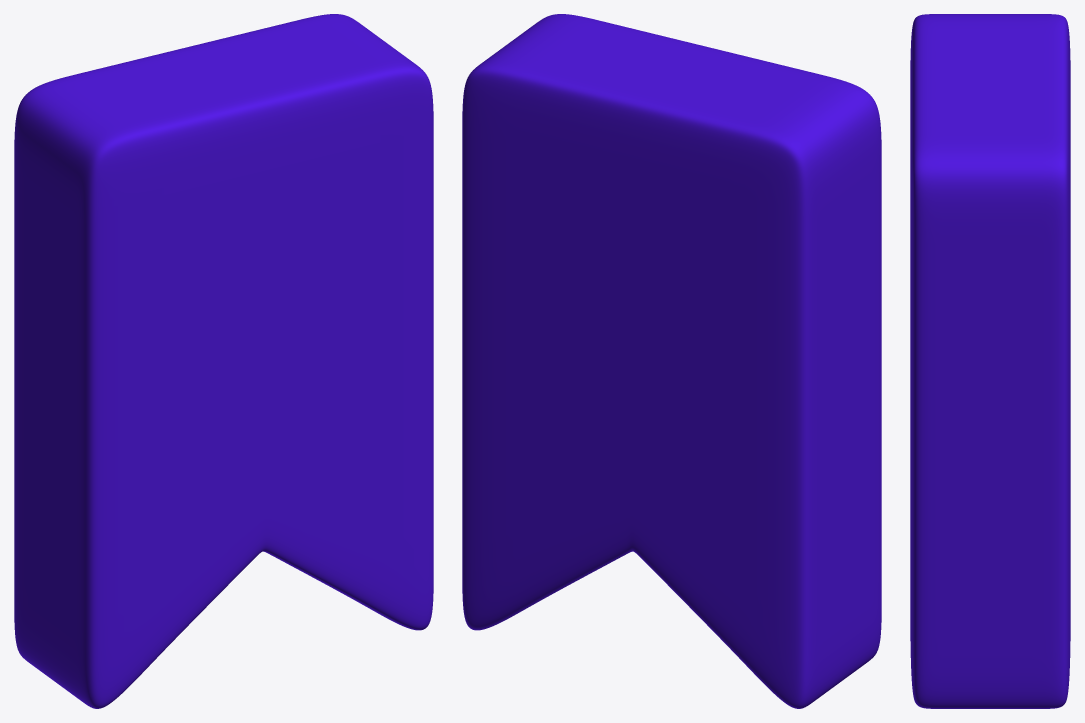
The model's file is bookmark.glb.
3 renders of one model, left to right at view 1: azimuth 30°, elevation 25°; view 2: azimuth 150°, elevation 25°; view 3: azimuth 270°, elevation 25°, orthographic. The views are drawn at different scales.
Parts seen in each view (by area): view 1: Bookmark; view 2: Bookmark; view 3: Bookmark.
Part boxes in pixels (x1,y1,x2,y2): Bookmark: [14, 14, 433, 708]; Bookmark: [462, 14, 881, 708]; Bookmark: [910, 14, 1070, 708].
Bounding box in the file's own units: 1.18 × 1.85 × 0.4908.
